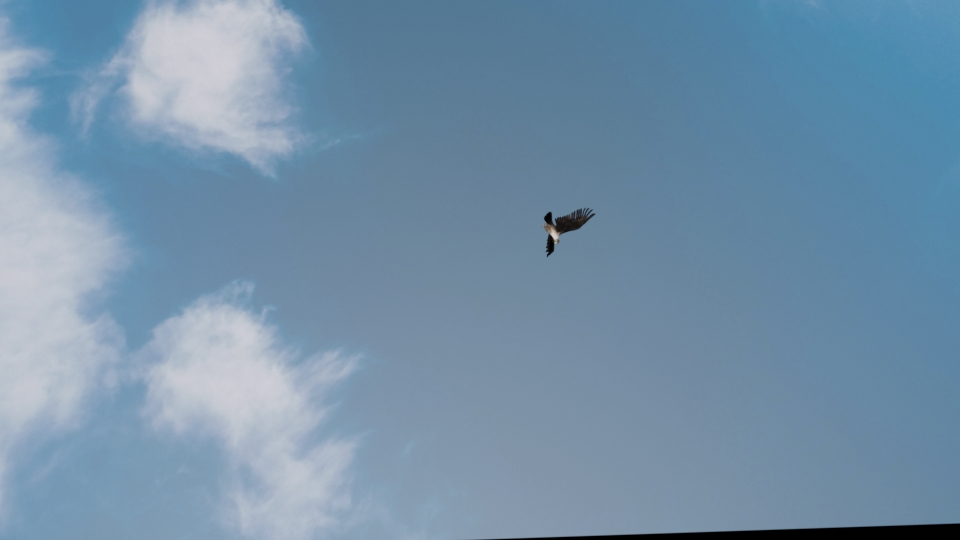bird: (543, 201, 594, 260)
